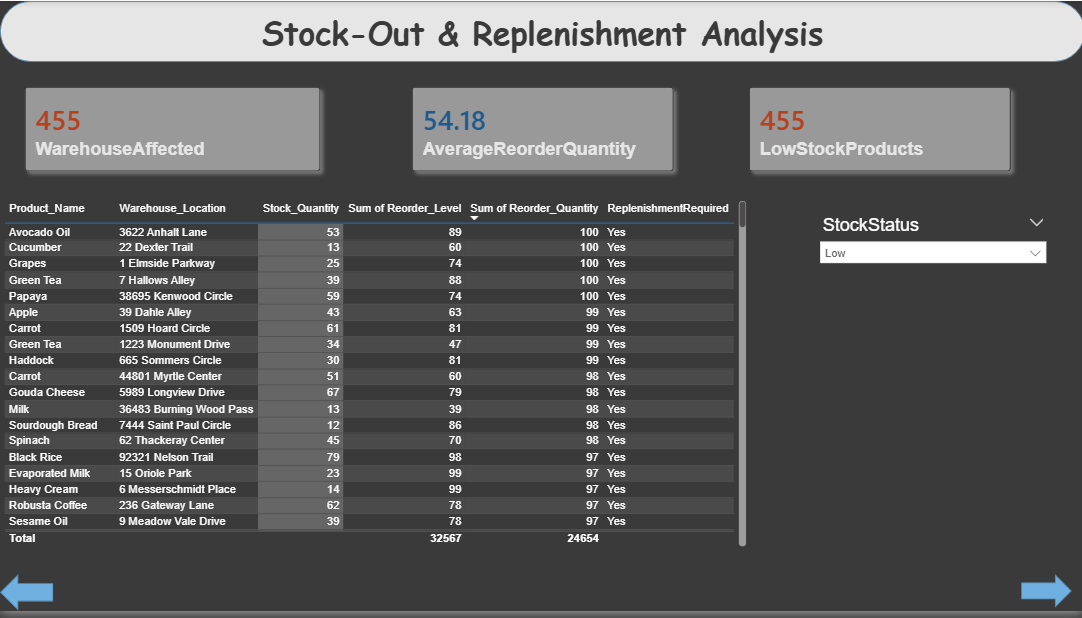

The dashboard page shown, as its layout file describes it:
{"tool":"powerbi","page":{"name":"Stock-Out & Replenishment Analysis","canvas":[1280,720],"ordinal":4},"visuals":[{"type":"shape","box":[0,0,1280.6,71.7],"z":0},{"type":"cardVisual","fields":{"Data":["Grocery_Inventory.WarehouseAffected"]},"box":[0,72.5,407.8,158.4],"z":1000},{"type":"cardVisual","fields":{"Data":["Grocery_Inventory.AverageReorderQuantity"]},"box":[456.6,72.5,367.3,158.4],"z":2000},{"type":"cardVisual","fields":{"Data":["Grocery_Inventory.LowStockProducts"]},"box":[854.3,72.5,367.3,158.4],"z":3000},{"type":"tableEx","fields":{"Values":["Grocery_Inventory.Product_Name","Grocery_Inventory.Warehouse_Location","Grocery_Inventory.Stock_Quantity","Sum(Grocery_Inventory.Reorder_Level)","Sum(Grocery_Inventory.Reorder_Quantity)","Grocery_Inventory.ReplenishmentRequired"]},"box":[0,230.6,885.8,418],"z":4000},{"type":"slicer","fields":{"Values":["Grocery_Inventory.StockStatus"]},"box":[958.8,247.7,286.5,94.4],"z":5000},{"type":"shape","box":[0,676.8,63,43.1],"z":6000},{"type":"shape","box":[1206,676.8,59.7,39.8],"z":7000}]}

Visuals, with their boxes in screenshot pixels (x1, y1, x2, y2), scaled from the page's 1280x720 canvas onto the 1082x618 screenshot:
shape: x1=0 y1=0 x2=1081 y2=62
cardVisual - Grocery_Inventory.WarehouseAffected: x1=0 y1=62 x2=345 y2=198
cardVisual - Grocery_Inventory.AverageReorderQuantity: x1=386 y1=62 x2=696 y2=198
cardVisual - Grocery_Inventory.LowStockProducts: x1=722 y1=62 x2=1033 y2=198
tableEx - Grocery_Inventory.Product_Name x Grocery_Inventory.Warehouse_Location: x1=0 y1=198 x2=749 y2=557
slicer - Grocery_Inventory.StockStatus: x1=810 y1=213 x2=1053 y2=294
shape: x1=0 y1=581 x2=53 y2=617
shape: x1=1019 y1=581 x2=1070 y2=615
